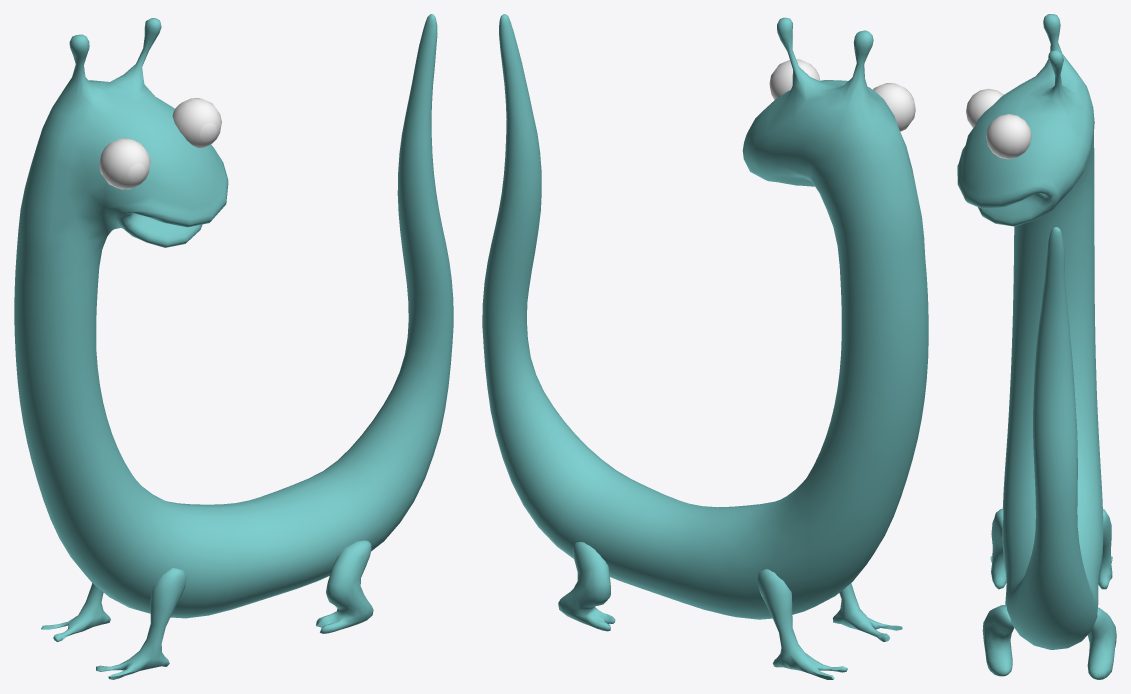
The picture shows the model from 3 angles, left to right: view 1: azimuth 30°, elevation 25°; view 2: azimuth 150°, elevation 25°; view 3: azimuth 270°, elevation 25°; orthographic projection. The views are drawn at different scales.
Visible parts, largest first — view 1: U, Sphere076, Sphere075; view 2: U, Sphere076, Sphere075; view 3: U, Sphere075, Sphere076.
Boxes of the visible parts, <box> form: U: <box>14,14,453,679</box>; Sphere076: <box>99,138,150,189</box>; Sphere075: <box>172,98,221,148</box>; U: <box>482,14,928,679</box>; Sphere076: <box>873,83,915,131</box>; Sphere075: <box>769,59,819,99</box>; U: <box>957,14,1116,679</box>; Sphere075: <box>986,114,1031,159</box>; Sphere076: <box>966,88,1003,127</box>.
Bounding box in the file's own units: 0.1197 × 0.1661 × 0.0433.
